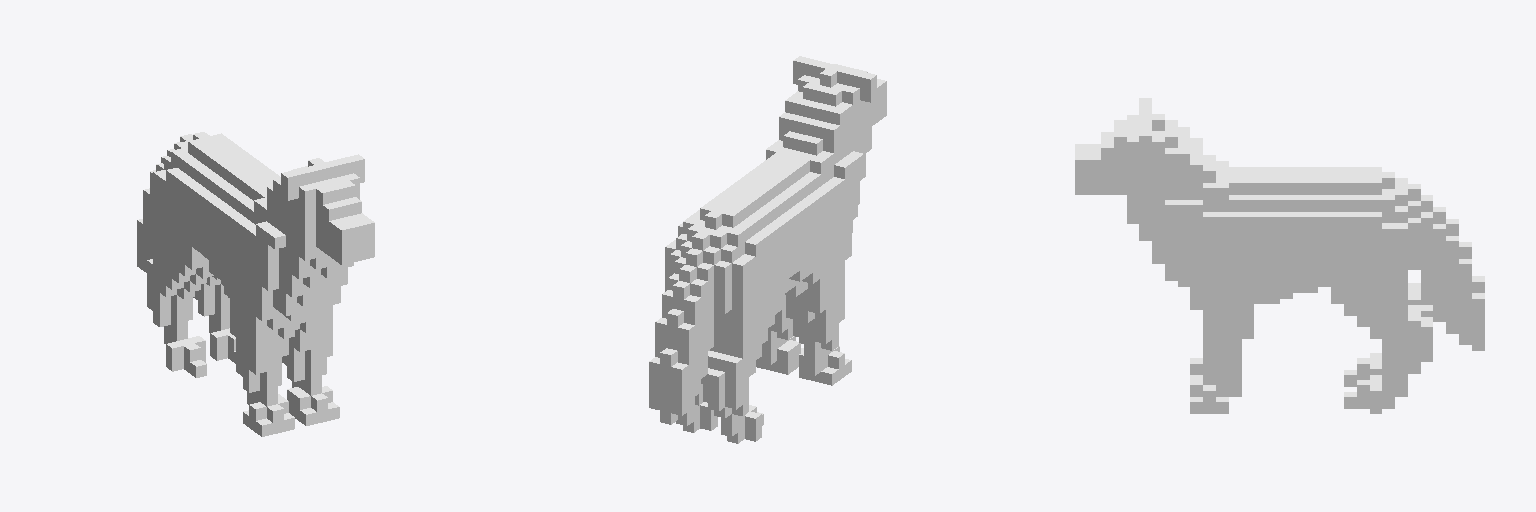
Rendered from wolf-dog_32.obj.
3 renders of one model, left to right at view 1: azimuth 30°, elevation 25°; view 2: azimuth 150°, elevation 25°; view 3: azimuth 270°, elevation 25°, orthographic.
Visible parts, largest first — view 1: object 1; view 2: object 1; view 3: object 1.
Boxes of the visible parts, box(x1,y1,x2,y2) form: object 1: box(137, 132, 374, 436); object 1: box(649, 56, 886, 443); object 1: box(1075, 98, 1484, 413).
Bounding box in the file's own units: 0.7 × 2.4 × 3.2.